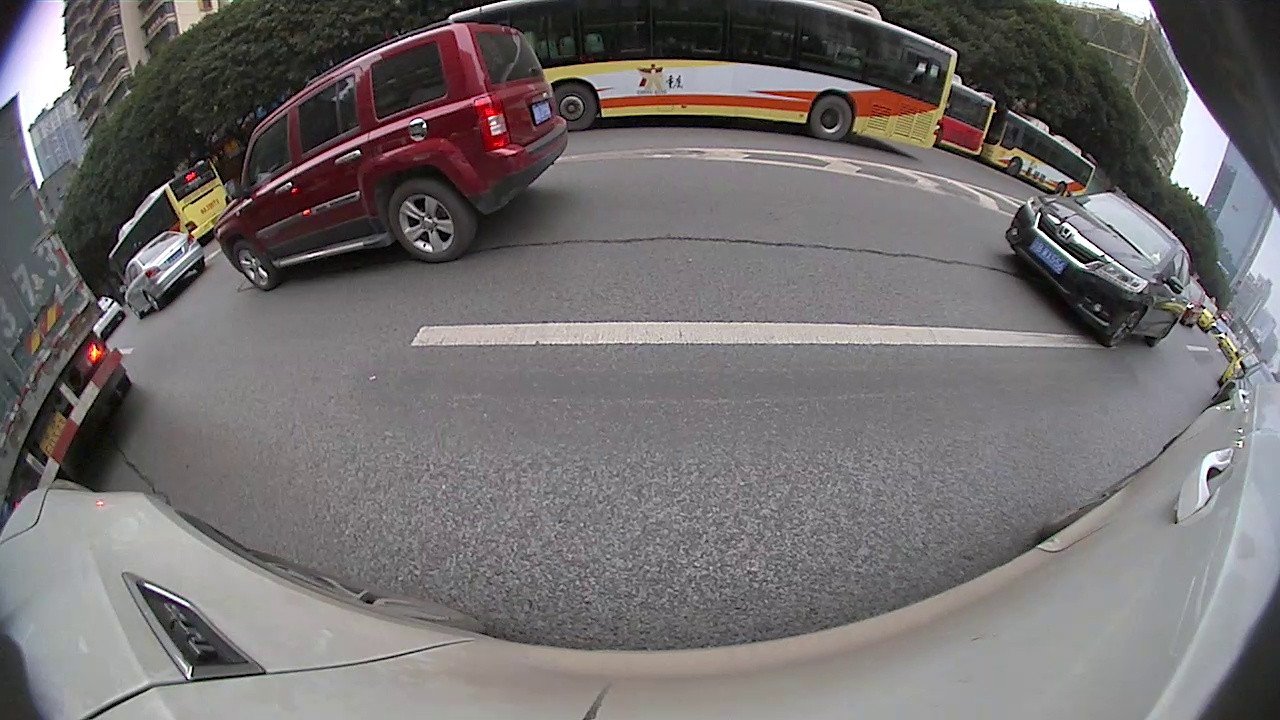bus: (448, 3, 958, 151), (106, 156, 231, 276), (989, 107, 1096, 201), (940, 80, 993, 159)
car: (212, 22, 569, 293), (1006, 192, 1194, 351), (123, 229, 208, 320)
front: (552, 79, 597, 131), (236, 237, 273, 290), (1112, 301, 1140, 346), (1007, 157, 1023, 176)
rear: (381, 177, 480, 263), (811, 89, 852, 141), (139, 288, 164, 313), (1055, 179, 1067, 199)
truck: (0, 93, 134, 501)
